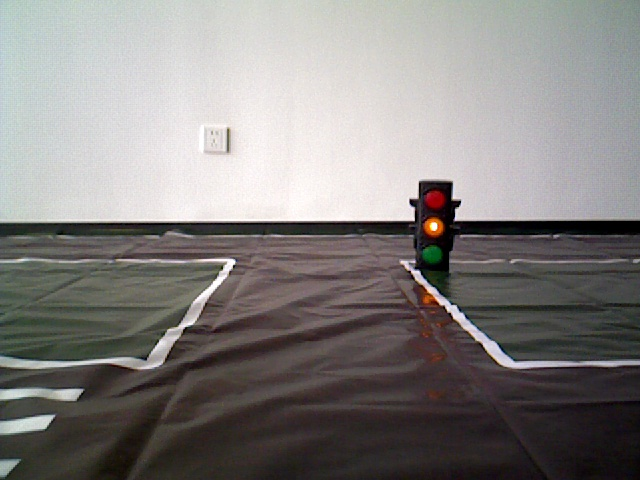yellow: (416, 177, 446, 265)
